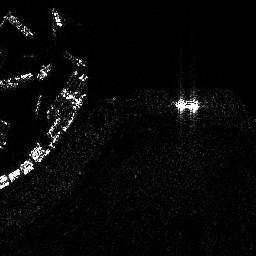ship: (3, 12, 33, 37), (51, 7, 63, 28)
